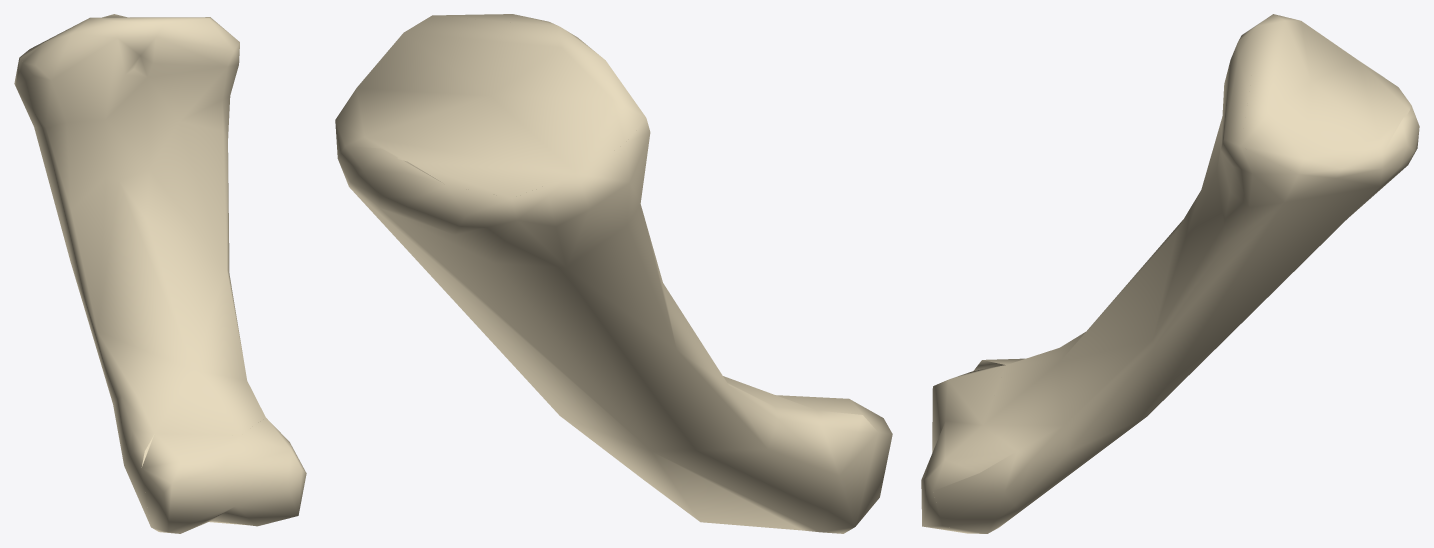
The model's file is esqueleto-middle-phalanx-of-third-finger-of-hand-r.glb.
3 renders of one model, left to right at view 1: azimuth 30°, elevation 25°; view 2: azimuth 150°, elevation 25°; view 3: azimuth 270°, elevation 25°, orthographic. The views are drawn at different scales.
Parts seen in each view (by area): view 1: Middle phalanx of third finger of hand.r; view 2: Middle phalanx of third finger of hand.r; view 3: Middle phalanx of third finger of hand.r.
Boxes of the visible parts, x1,y1,x2,y2 form: Middle phalanx of third finger of hand.r: [14, 14, 306, 533]; Middle phalanx of third finger of hand.r: [335, 14, 892, 533]; Middle phalanx of third finger of hand.r: [921, 14, 1419, 533].
Size of the model in its own units: 0.0142 by 0.0263 by 0.0238.
